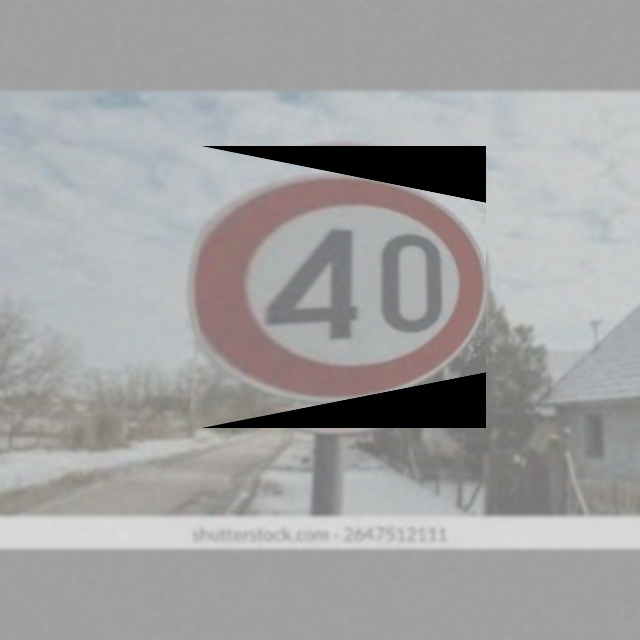Speed_Limit_40: (201, 146, 486, 428)
